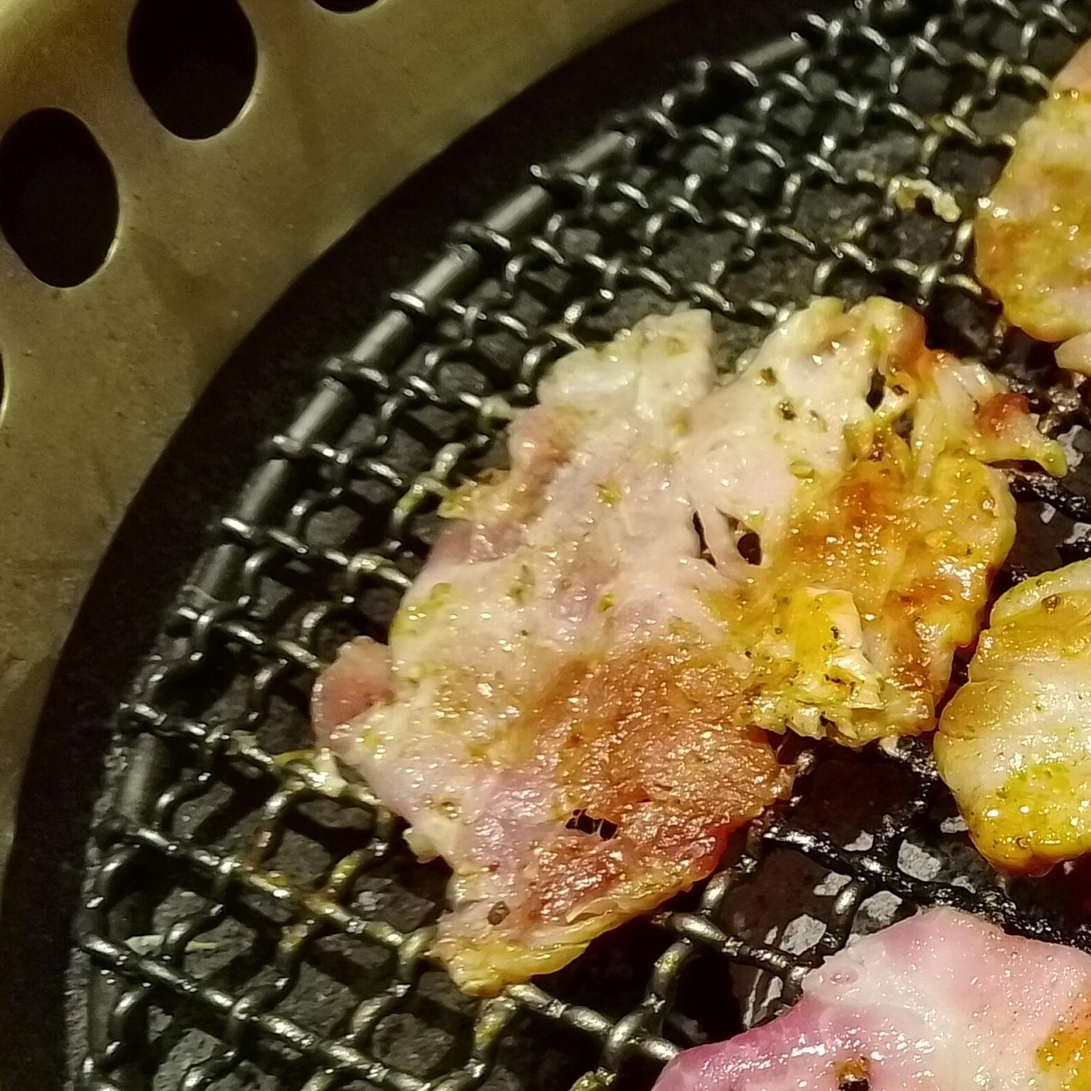Undercooked: (315, 298, 1067, 1001), (645, 908, 1090, 1090)
Well-Cooked: (931, 559, 1090, 883), (973, 35, 1090, 378)
